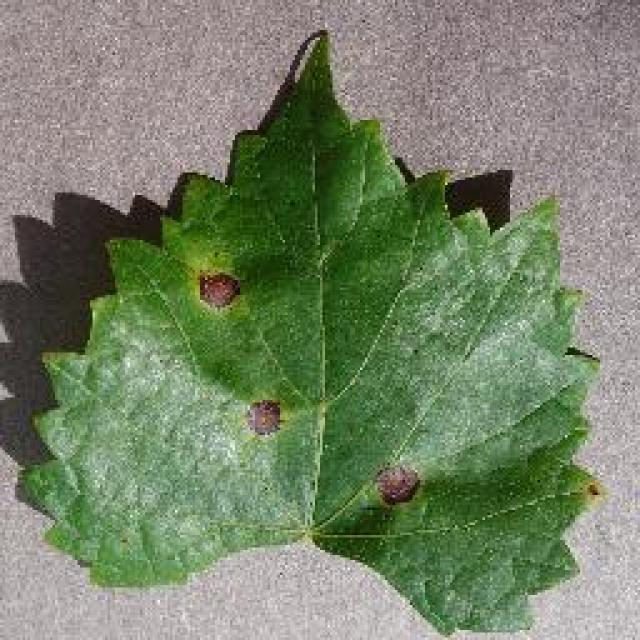Grape___Black_rot: (15, 29, 607, 638)
